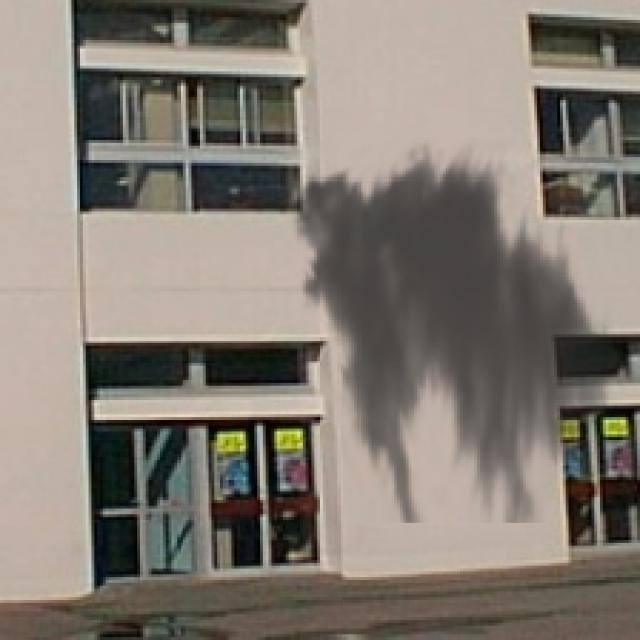smoke: (277, 137, 629, 523)
